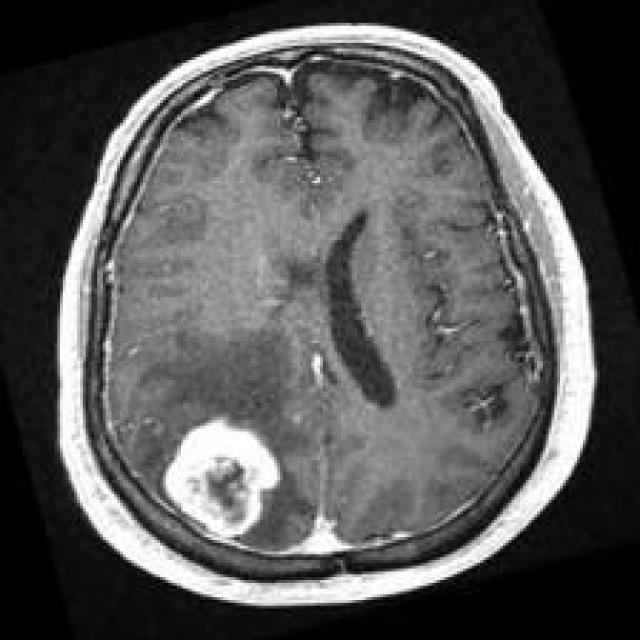Tumor: (163, 417, 286, 543)
